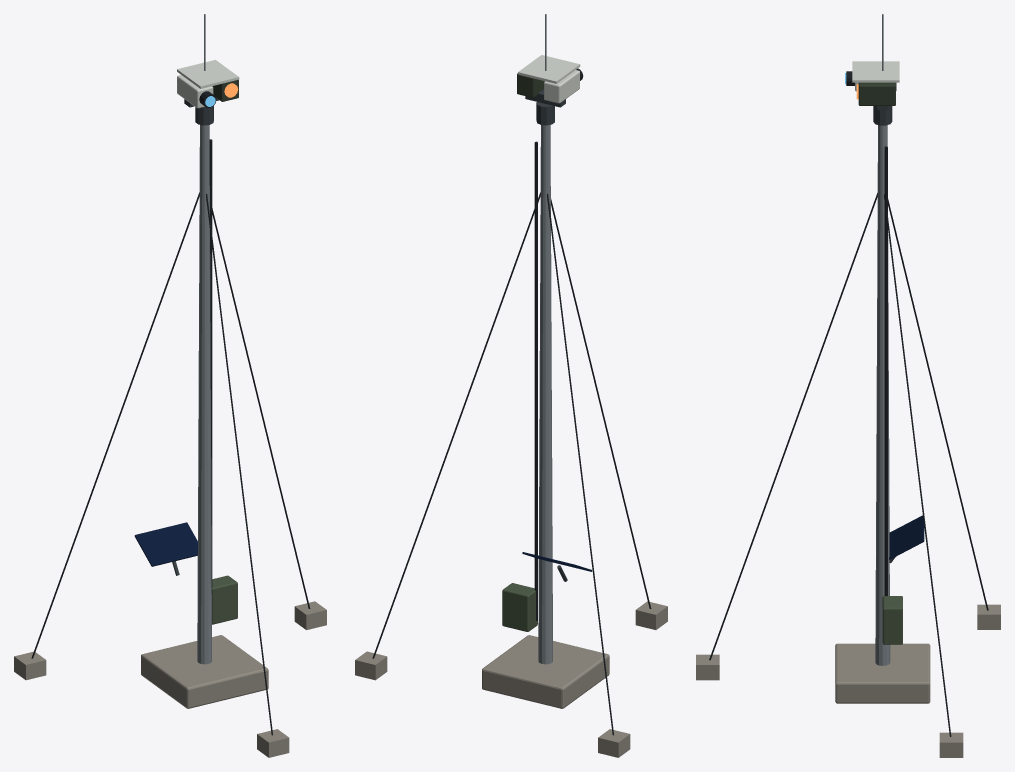
File: sns_cam_mast.glb
The picture shows the model from 3 angles, left to right: view 1: azimuth 30°, elevation 25°; view 2: azimuth 150°, elevation 25°; view 3: azimuth 270°, elevation 25°; orthographic projection.
Parts seen in each view (by area): view 1: SNS_CAM_MAST; view 2: SNS_CAM_MAST; view 3: SNS_CAM_MAST.
Boxes of the visible parts, x1,y1,x2,y2 form: SNS_CAM_MAST: [14, 14, 326, 757]; SNS_CAM_MAST: [355, 14, 667, 757]; SNS_CAM_MAST: [696, 14, 1000, 757].
Size of the model in its own units: 4.82 by 10.91 by 4.5.
